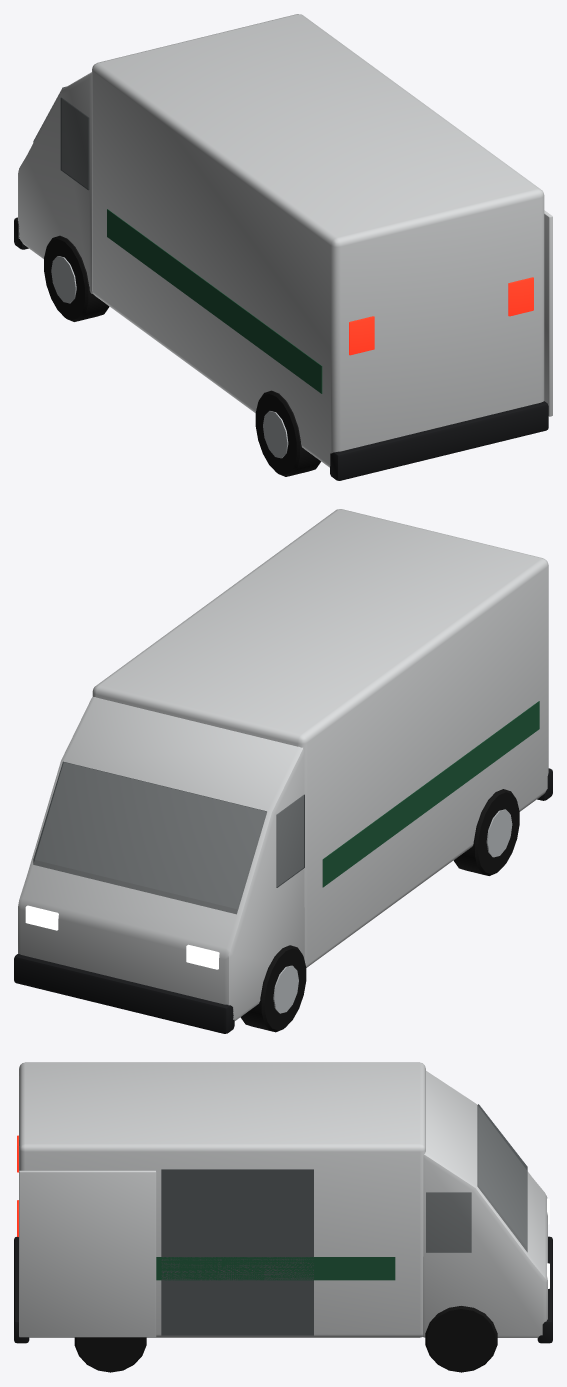
The model's file is marlin_van.glb.
3 views of the same model, one above another, from view 1: azimuth 30°, elevation 25°; view 2: azimuth 150°, elevation 25°; view 3: azimuth 270°, elevation 25° (orthographic). The views are drawn at different scales.
Visible parts, largest first — view 1: marlin_van; view 2: marlin_van; view 3: marlin_van.
Part boxes in pixels (box(x1,y1,x2,y2)): marlin_van: box(14, 14, 552, 480); marlin_van: box(14, 509, 552, 1033); marlin_van: box(14, 1062, 552, 1372).
Bounding box in the file's own units: 2.1 × 2.45 × 5.3.
